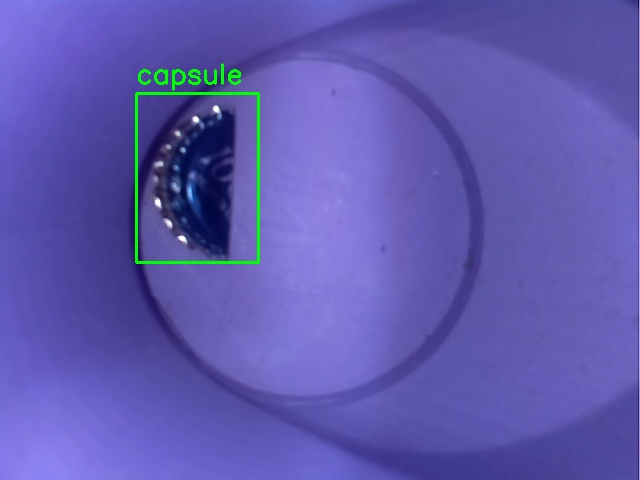capsule: (136, 93, 258, 262)
